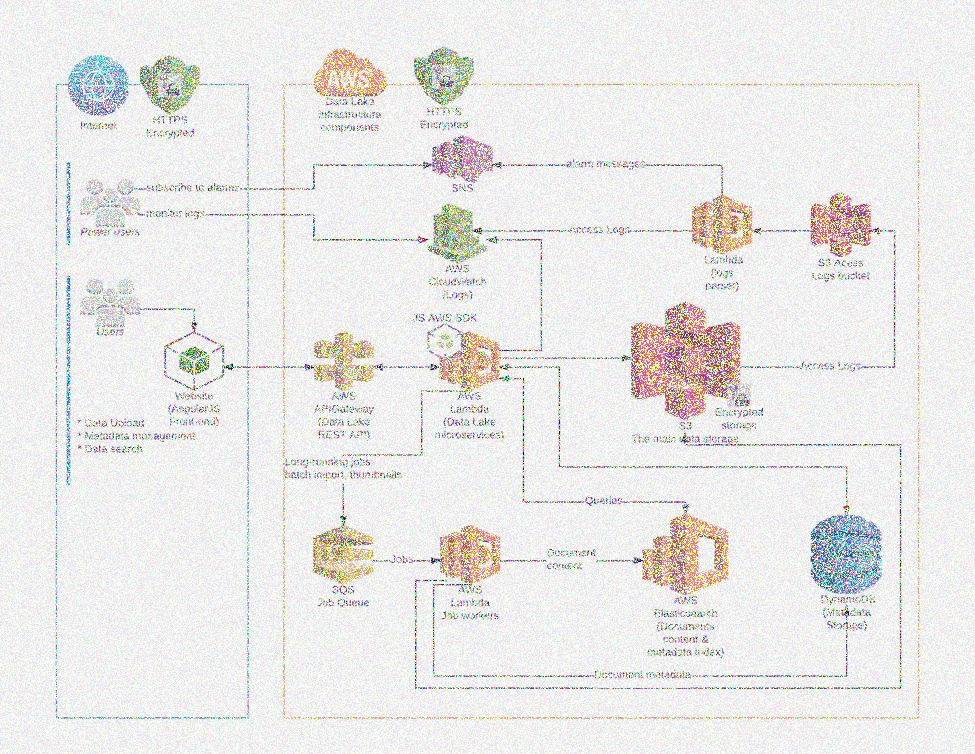API-Gateway: (302, 324, 382, 393)
Cloud Watch: (425, 194, 491, 268)
Dynamo DB: (799, 511, 890, 597)
Elastic Search: (638, 508, 732, 598)
Internet: (62, 44, 134, 122)
Key Management Service: (408, 42, 480, 109), (138, 51, 203, 118)
Lambda: (433, 328, 508, 397), (433, 520, 505, 589), (685, 192, 760, 258)
S3: (619, 292, 745, 421), (805, 182, 877, 257)
SDK: (156, 325, 233, 393), (422, 320, 467, 359)
SNS: (428, 134, 497, 188)
SQS: (305, 520, 378, 587)
Users: (72, 172, 144, 231), (75, 271, 147, 328)
aws: (308, 40, 391, 101)
